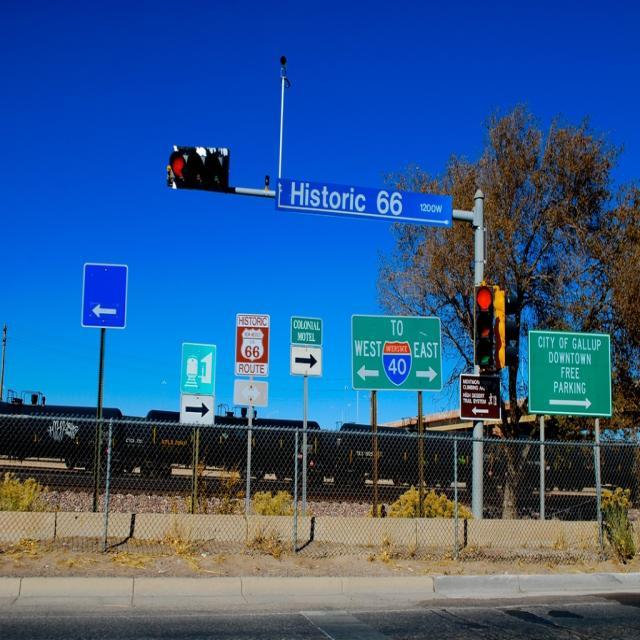traffic light: (167, 144, 228, 190), (474, 285, 497, 370)
